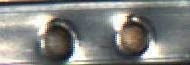joints: (13, 16, 83, 65), (109, 11, 156, 61)
